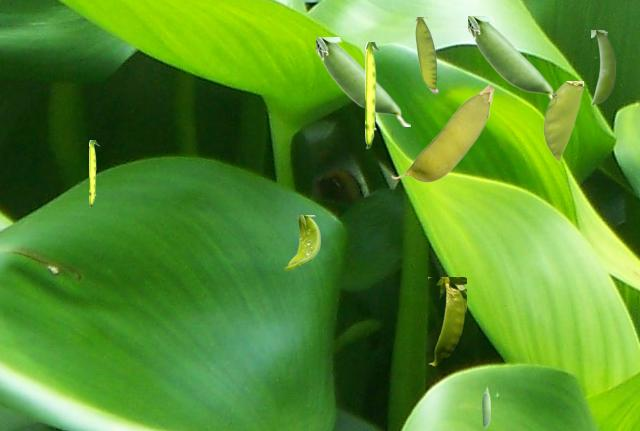pea: (391, 84, 493, 181), (316, 37, 409, 125), (468, 16, 553, 98), (428, 277, 465, 365), (543, 81, 582, 160), (284, 215, 319, 269), (591, 30, 614, 105), (415, 17, 437, 92), (365, 42, 380, 147), (89, 140, 98, 206), (482, 386, 489, 427)
